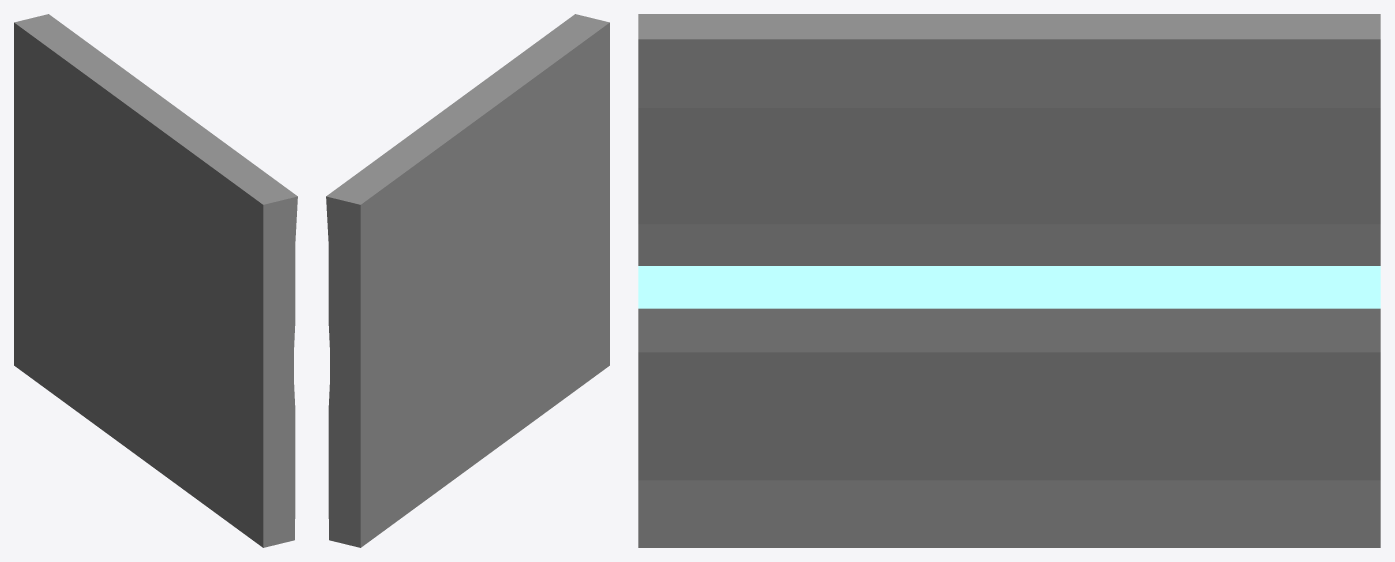
The model's file is SciFiWallPanel_2.fbx.
The picture shows the model from 3 angles, left to right: view 1: azimuth 30°, elevation 25°; view 2: azimuth 150°, elevation 25°; view 3: azimuth 270°, elevation 25°; orthographic projection. The views are drawn at different scales.
Visible parts, largest first — view 1: SciFiWallPanel; view 2: SciFiWallPanel; view 3: SciFiWallPanel.
Boxes of the visible parts, x1,y1,x2,y2 form: SciFiWallPanel: (14,14,297,547); SciFiWallPanel: (326,14,609,547); SciFiWallPanel: (638,14,1380,547).
Size of the model in its own units: 58.2 by 550 by 725.
